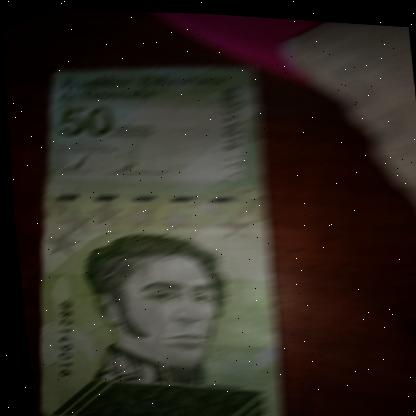fifty-front-vef: (5, 51, 290, 416)
